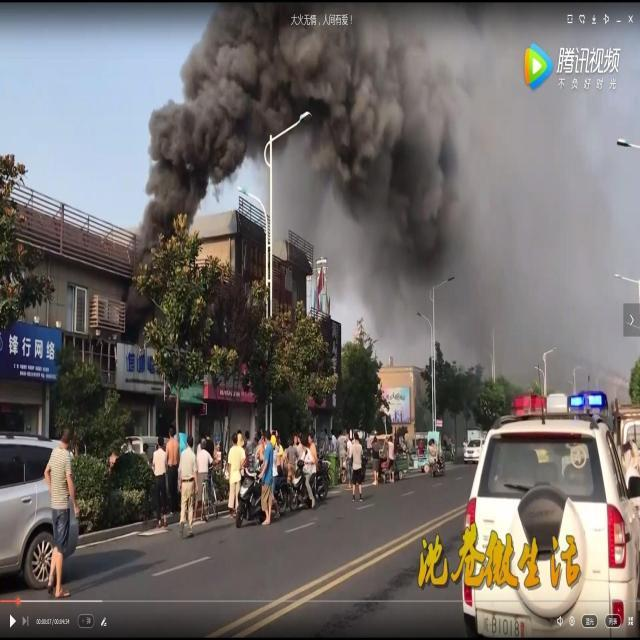Smoke: (130, 9, 640, 394)
